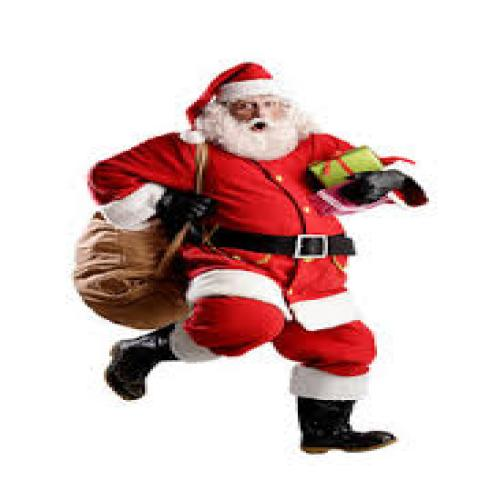Santa: (88, 61, 432, 455)
